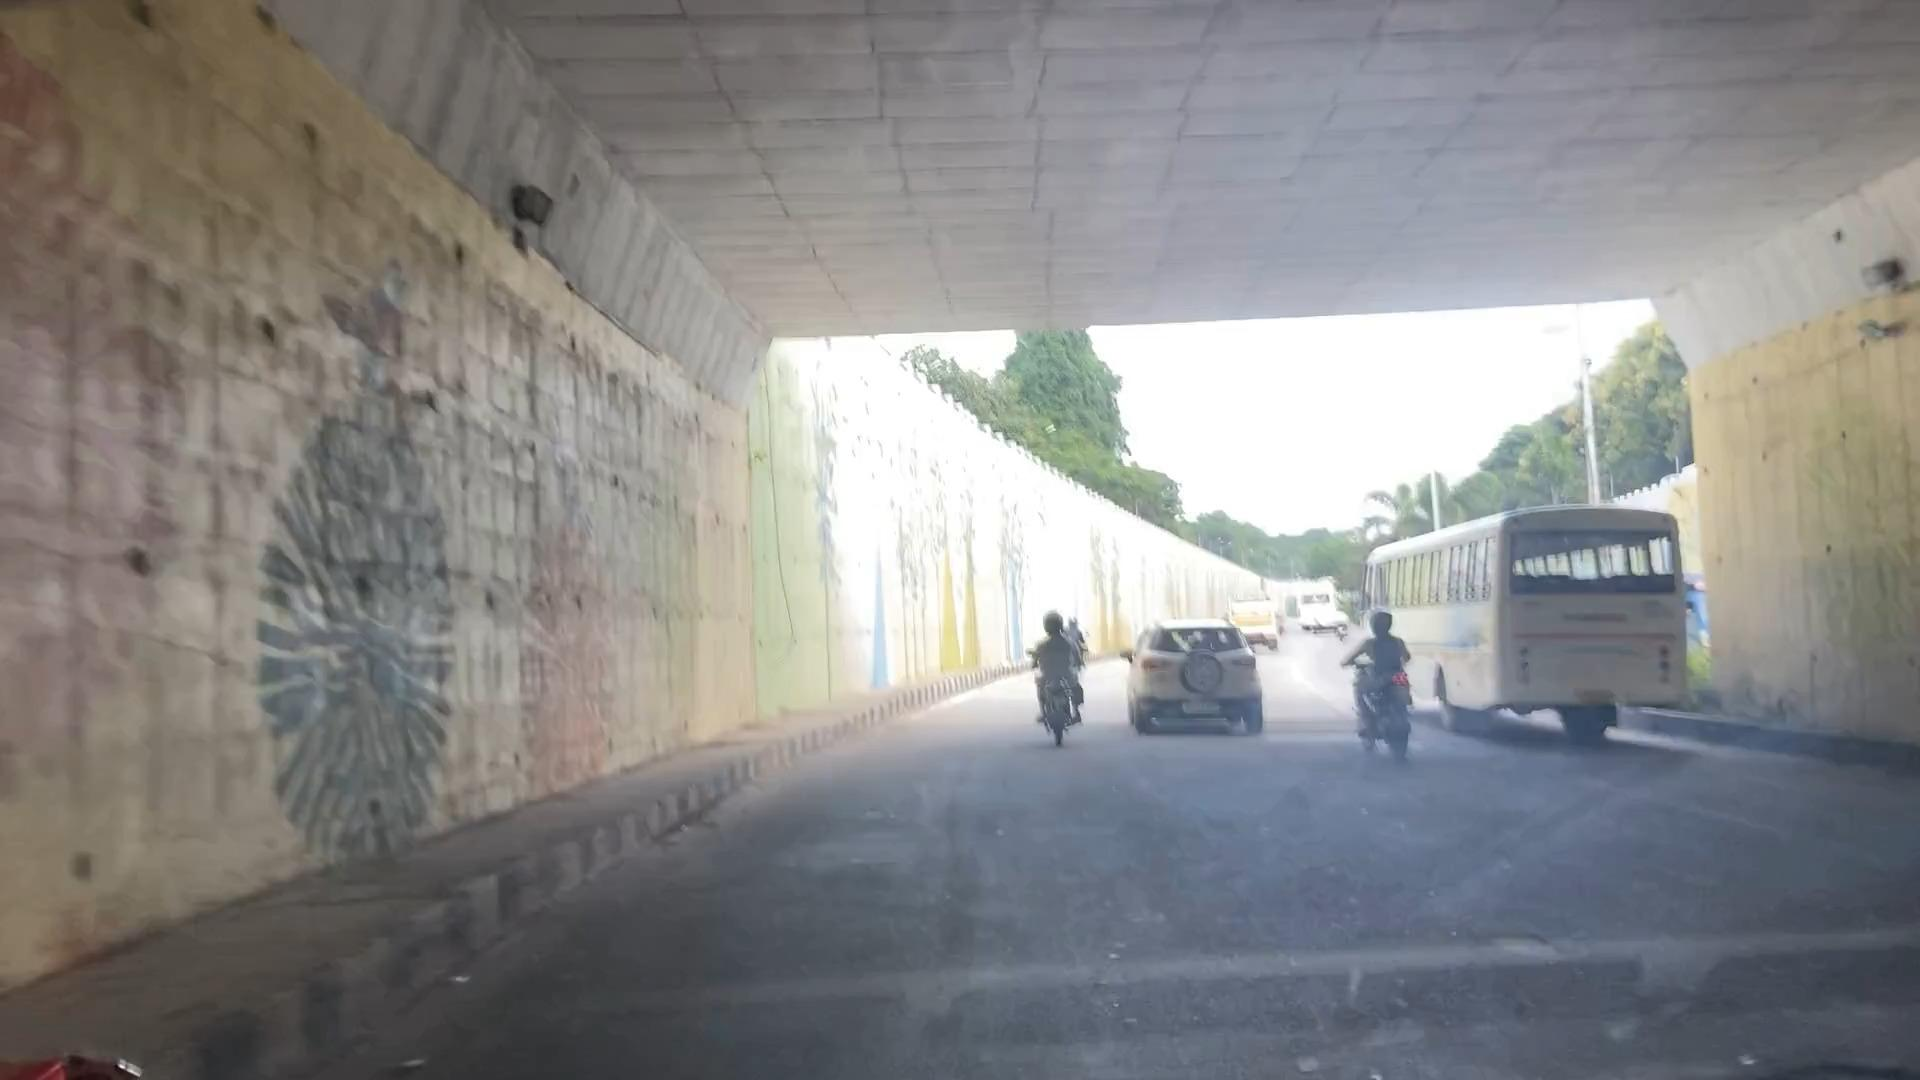HMV: (1368, 521, 1692, 705)
LMV: (1132, 624, 1265, 735), (1362, 620, 1428, 759), (1030, 620, 1088, 750)
